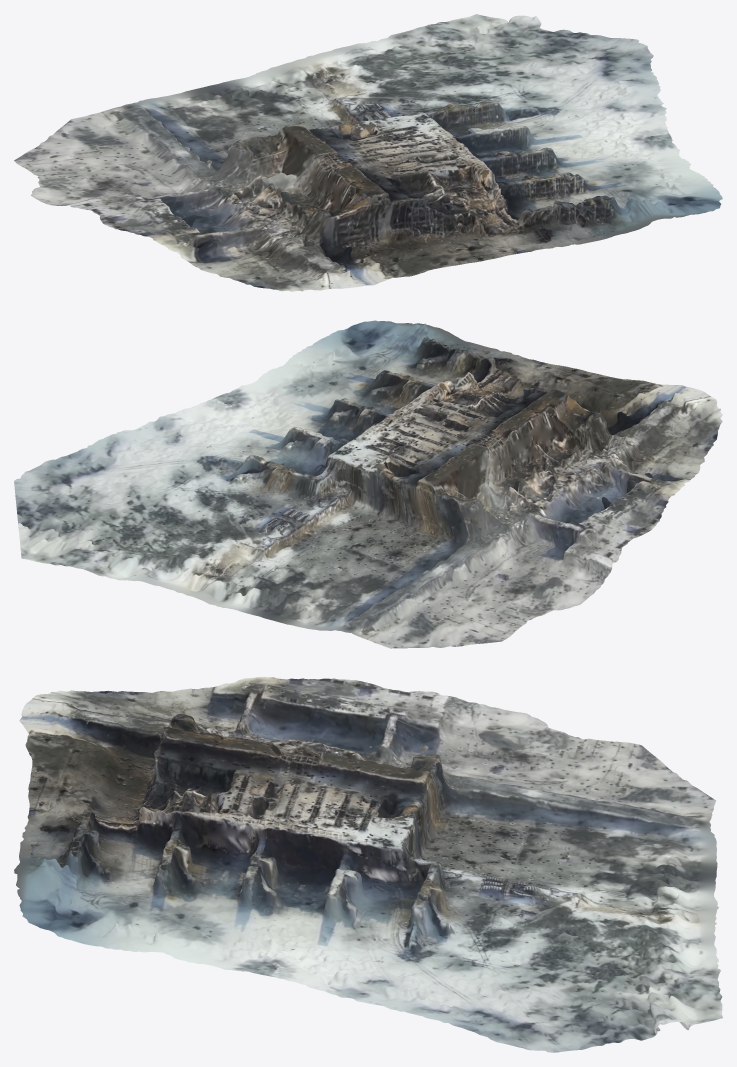
File: donetsk_intl_airport_terminal.glb
3 views of the same model, one above another, from view 1: azimuth 30°, elevation 25°; view 2: azimuth 150°, elevation 25°; view 3: azimuth 270°, elevation 25° (orthographic). The views are drawn at different scales.
Visible parts, largest first — view 1: Object_2, Object_3; view 2: Object_2, Object_3; view 3: Object_2, Object_3.
Part boxes in pixels (x1=…): Object_2: x1=14, y1=14, x2=722, y2=291; Object_3: x1=14, y1=20, x2=721, y2=283; Object_2: x1=14, y1=320, x2=722, y2=648; Object_3: x1=19, y1=330, x2=698, y2=647; Object_2: x1=14, y1=683, x2=722, y2=1052; Object_3: x1=47, y1=677, x2=717, y2=1049.
Size of the model in its own units: 27.84 by 4.09 by 24.75.
1 material, 1 textured.
